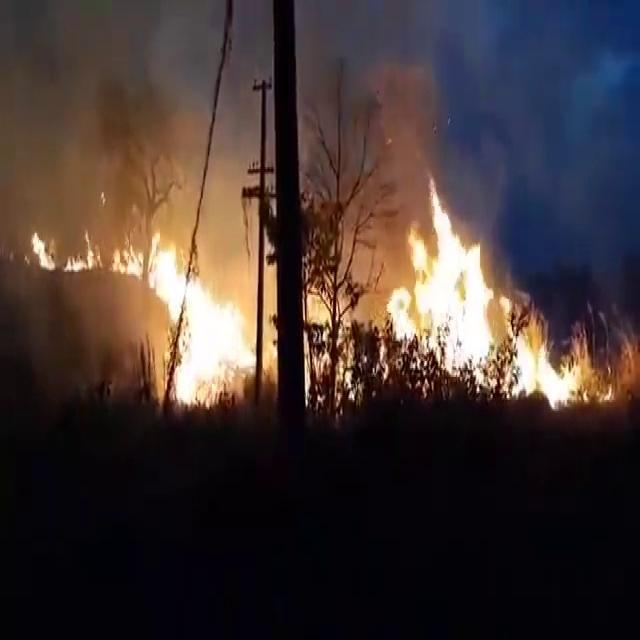Fire: (385, 172, 549, 394), (139, 229, 264, 411), (509, 316, 582, 409), (65, 229, 99, 274), (29, 228, 57, 272)
Smoke: (304, 4, 627, 336), (6, 0, 258, 237), (9, 280, 150, 424), (356, 15, 452, 192)
